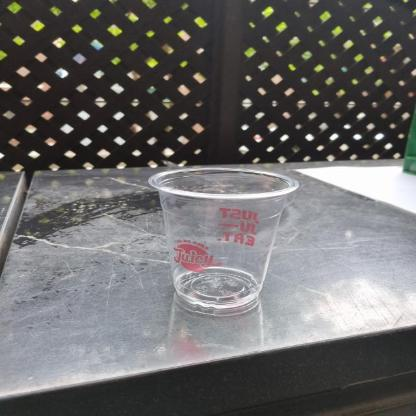Plastic Cup: (152, 165, 305, 315)
